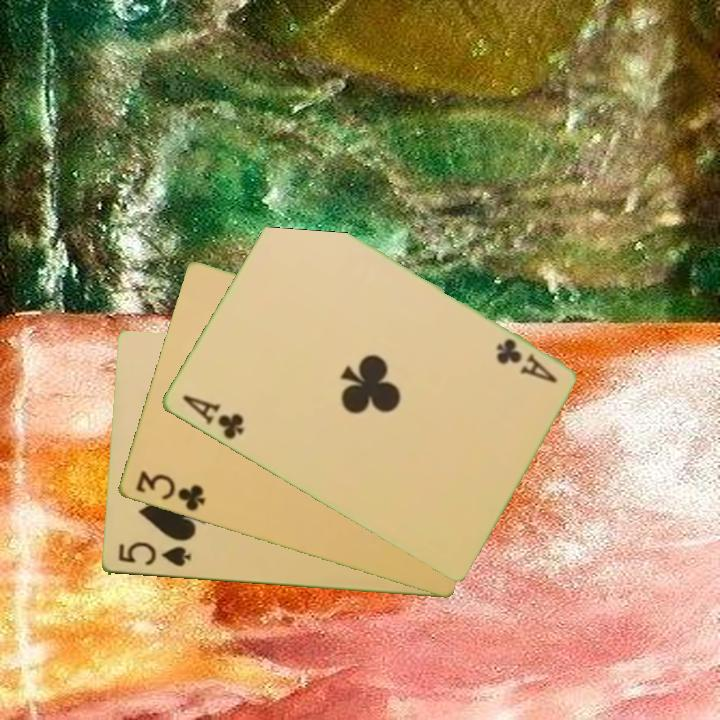3c: (132, 467, 208, 515)
5s: (114, 540, 193, 570)
Ac: (178, 391, 247, 443), (491, 335, 560, 387)
